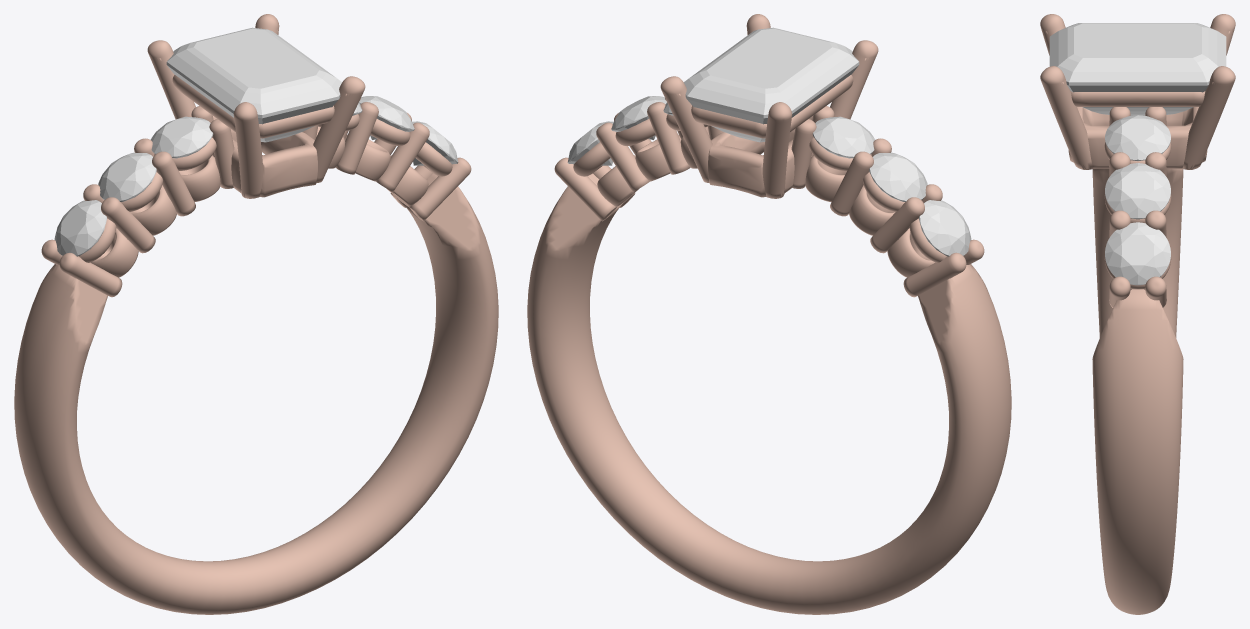
File: diamond-emerald-rosegold-4prong-taperedband-7stone.glb
The picture shows the model from 3 angles, left to right: view 1: azimuth 30°, elevation 25°; view 2: azimuth 150°, elevation 25°; view 3: azimuth 270°, elevation 25°; orthographic projection.
Visible parts, largest first — view 1: metal, stone, side, side.001, side.002, side.004, side.005; view 2: metal, stone, side, side.001, side.002, side.004, side.005; view 3: metal, stone, side.005, side.004, side.003.
Boxes of the visible parts, bbox=[...] form: metal: bbox=[14, 14, 498, 614]; stone: bbox=[166, 27, 341, 142]; side: bbox=[54, 200, 106, 256]; side.001: bbox=[98, 152, 156, 201]; side.002: bbox=[150, 116, 213, 158]; side.004: bbox=[359, 96, 414, 139]; side.005: bbox=[412, 121, 458, 165]; metal: bbox=[527, 14, 1011, 614]; stone: bbox=[684, 27, 859, 142]; side: bbox=[919, 200, 971, 256]; side.001: bbox=[869, 152, 927, 201]; side.002: bbox=[812, 116, 875, 158]; side.004: bbox=[611, 96, 666, 139]; side.005: bbox=[567, 121, 613, 165]; metal: bbox=[1040, 14, 1235, 614]; stone: bbox=[1049, 23, 1226, 115]; side.005: bbox=[1105, 222, 1170, 285]; side.004: bbox=[1105, 163, 1170, 219]; side.003: bbox=[1105, 115, 1170, 160].
Bounding box in the file's own units: 20.49 × 22.94 × 7.4.
